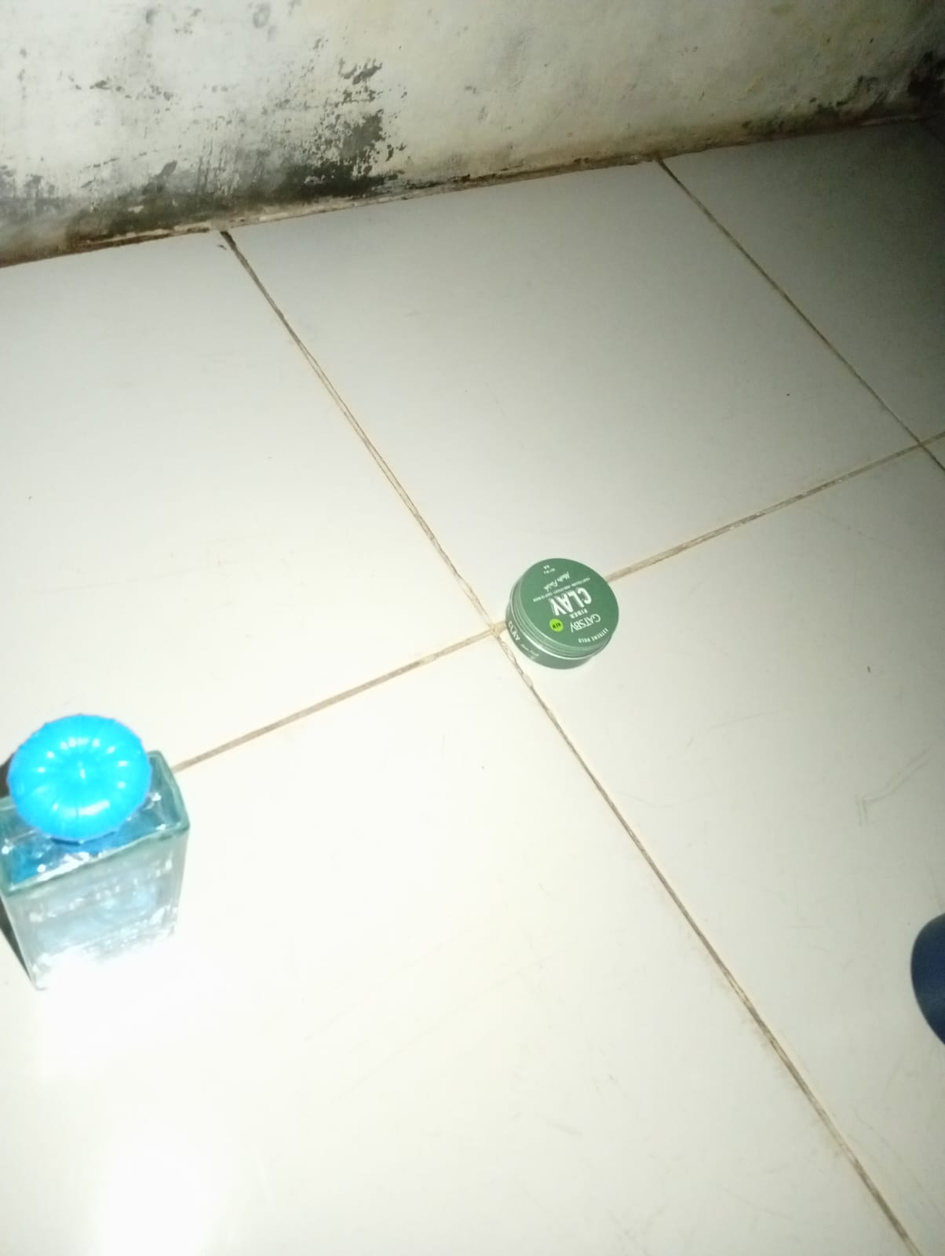Minyak_Rambut: (454, 521, 667, 692)
Parfum: (0, 679, 226, 996)
